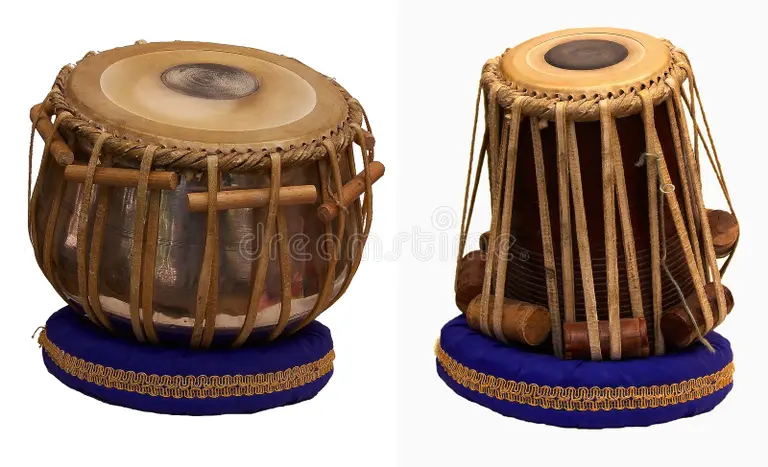tabla: (25, 39, 380, 354), (443, 29, 740, 364)
